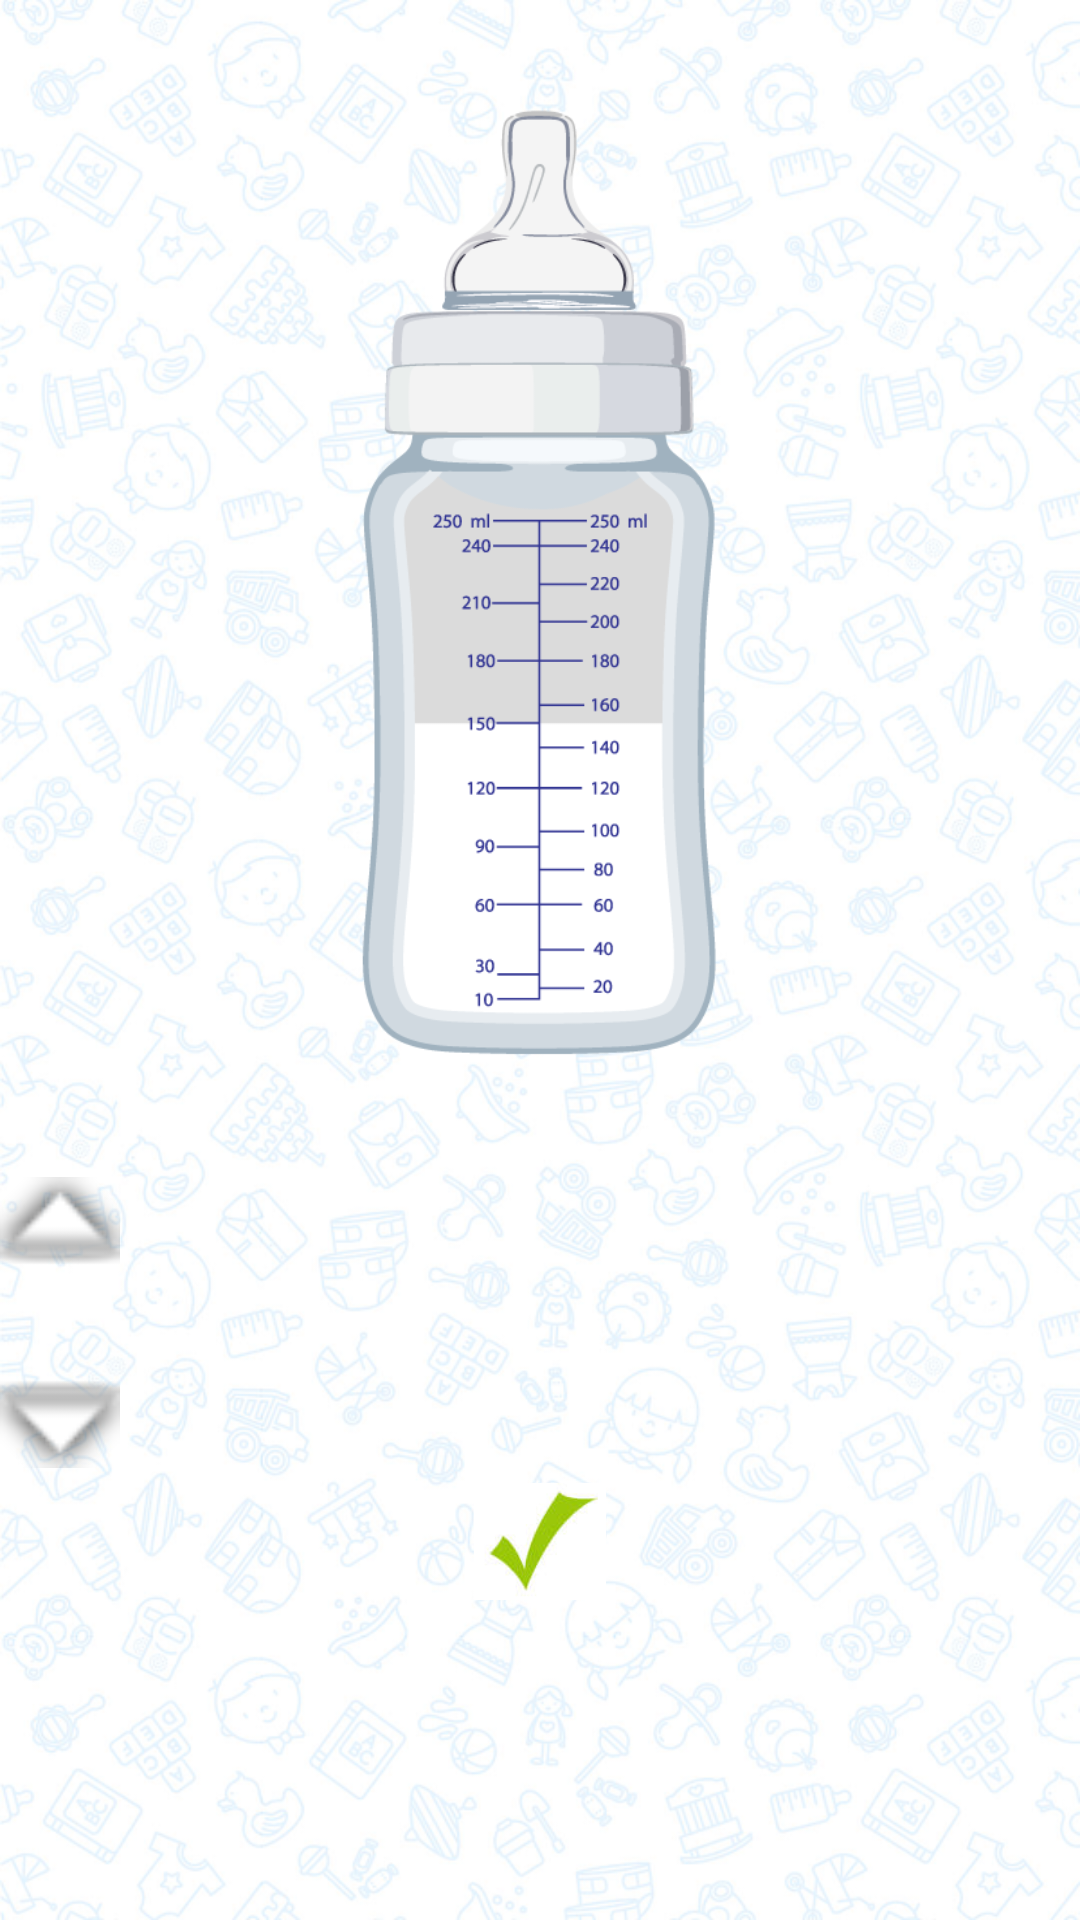

Screen size 1080 x 1920. Icon name, then its box in pixels as (x1, y1, x2, y2):
arrow down float: (0, 1364, 120, 1483)
arrow up float: (0, 1164, 120, 1271)
